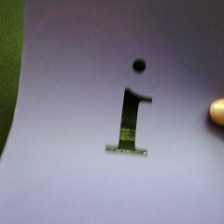violet1: (98, 55, 156, 159)
